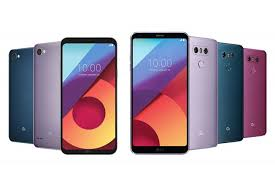lg: (58, 34, 120, 156), (129, 32, 191, 154)
